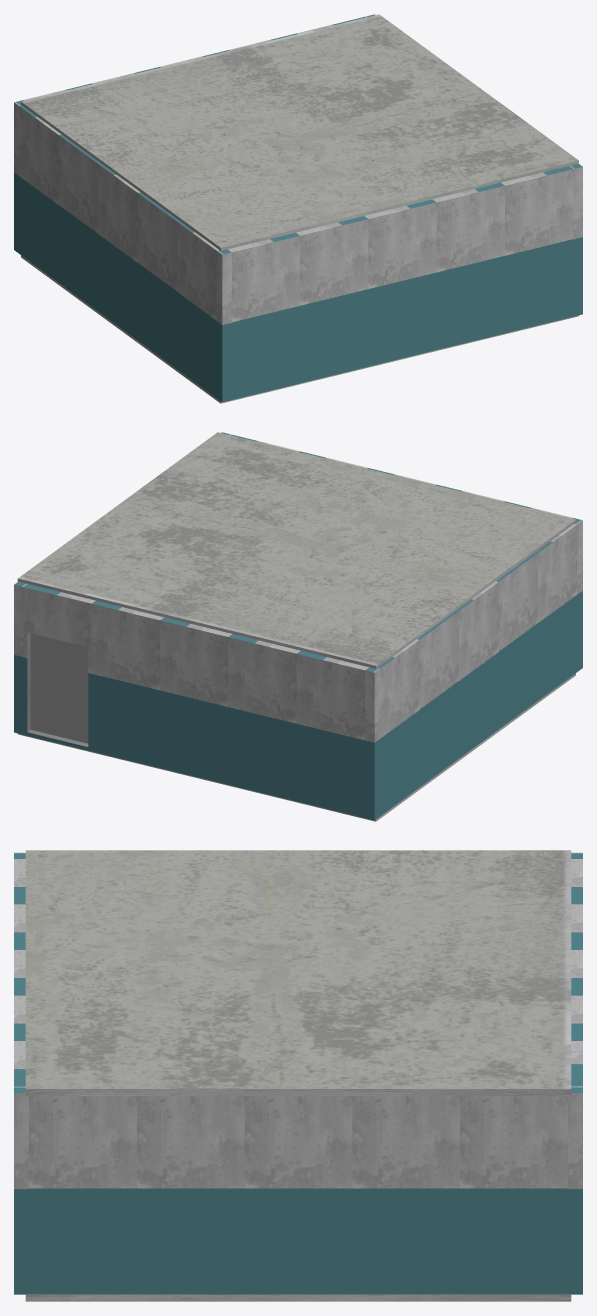
The model's file is physic_lab.fbx.
3 views of the same model, one above another, from view 1: azimuth 30°, elevation 25°; view 2: azimuth 150°, elevation 25°; view 3: azimuth 270°, elevation 25° (orthographic). The views are drawn at different scales.
Parts seen in each view (by area): view 1: floor_ceiling1, window_wall3, window_wall18, window_wall4, window_wall10, window_wall2, window_wall6, window_wall5, window_wall19, window_wall12, window_wall17, window_wall7 (+3 smaller); view 2: floor_ceiling1, window_wall9, Window_wall8, window_wall20, window_wall11, window_wall6, window_wall17, window_wall12, window_wall19, window_wall5, door, door_wall (+4 smaller); view 3: floor_ceiling1, window_wall13, window_wall14, window_wall15, window_wall21, window_wall, floor_ceiling, window_wall8, window_wall1.
Boxes of the visible parts, x1,y1,x2,y2 form: floor_ceiling1: [21, 14, 578, 250]; window_wall3: [364, 199, 436, 366]; window_wall18: [501, 166, 573, 333]; window_wall4: [296, 216, 368, 383]; window_wall10: [433, 182, 504, 349]; window_wall2: [228, 232, 299, 399]; window_wall6: [98, 163, 139, 340]; window_wall5: [138, 192, 179, 368]; window_wall19: [177, 221, 218, 397]; window_wall12: [19, 105, 61, 282]; window_wall17: [59, 134, 100, 311]; window_wall7: [216, 249, 231, 402]; floor_ceiling1: [17, 432, 575, 668]; window_wall9: [160, 617, 231, 784]; Window_wall8: [228, 634, 300, 801]; window_wall20: [296, 650, 368, 817]; window_wall11: [91, 600, 163, 767]; window_wall6: [456, 581, 498, 758]; window_wall17: [417, 610, 458, 786]; window_wall12: [378, 639, 419, 815]; window_wall19: [535, 523, 577, 700]; window_wall5: [496, 552, 537, 729]; door: [30, 633, 88, 743]; door_wall: [23, 584, 95, 751]; floor_ceiling1: [25, 850, 571, 1095]; window_wall13: [244, 1096, 352, 1294]; window_wall14: [352, 1096, 459, 1294]; window_wall15: [137, 1096, 244, 1294]; window_wall21: [29, 1096, 136, 1294]; window_wall: [460, 1096, 567, 1294]; floor_ceiling: [25, 1294, 571, 1301]; window_wall8: [14, 1086, 28, 1294]; window_wall1: [568, 1086, 582, 1294].
Bounding box in the file's own units: 880 × 363 × 880.
